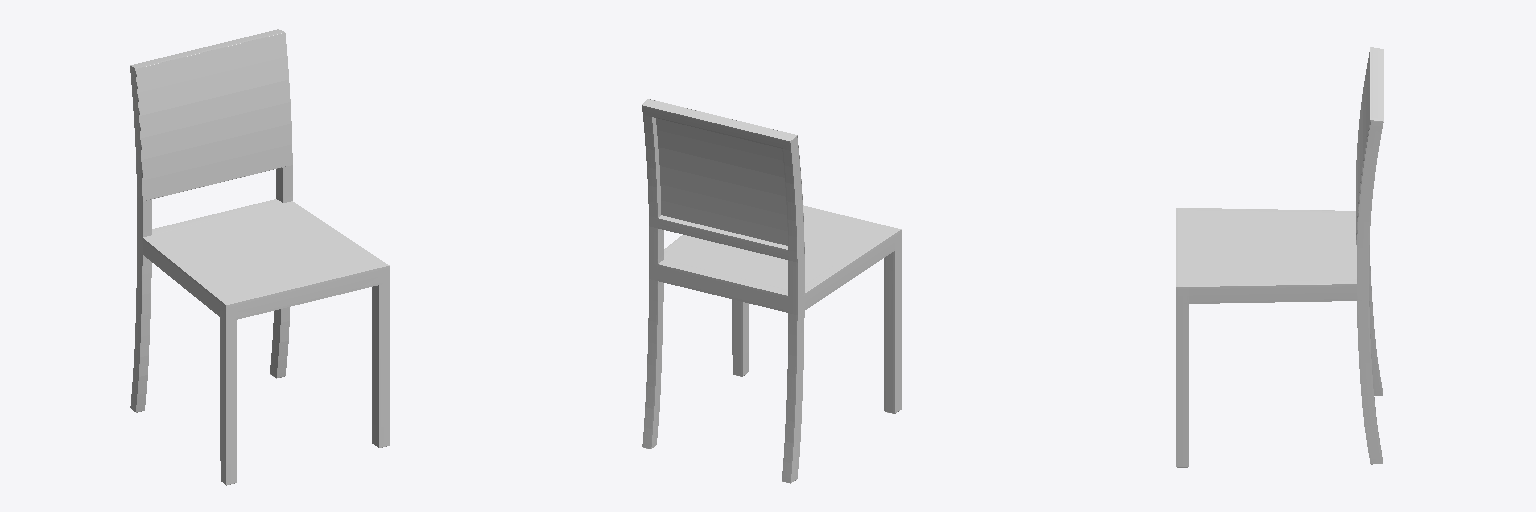
The model's file is kitchen_chair.obj.
The picture shows the model from 3 angles: view 1: azimuth 30°, elevation 25°; view 2: azimuth 150°, elevation 25°; view 3: azimuth 270°, elevation 25°; orthographic projection.
Parts seen in each view (by area): view 1: chair.005_Cube.009; view 2: chair.005_Cube.009; view 3: chair.005_Cube.009.
Part boxes in pixels (x1,y1,x2,y2): chair.005_Cube.009: (130, 29, 389, 485); chair.005_Cube.009: (642, 99, 901, 483); chair.005_Cube.009: (1176, 47, 1383, 467).
Size of the model in its own units: 42.68 by 86 by 46.95.